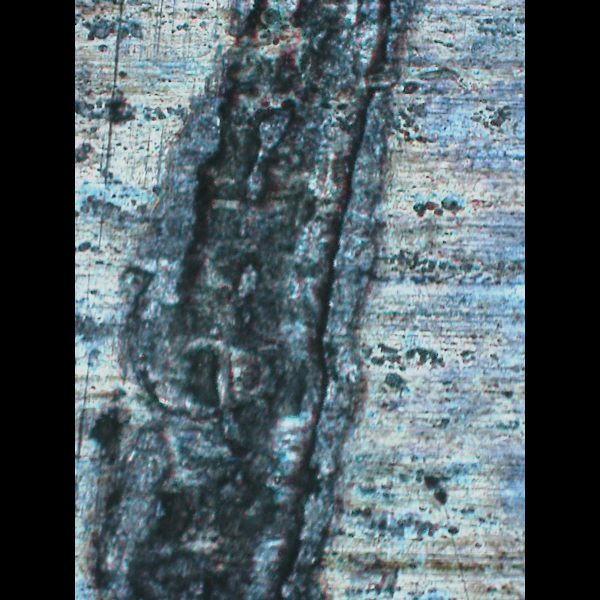d: (110, 0, 422, 597)
